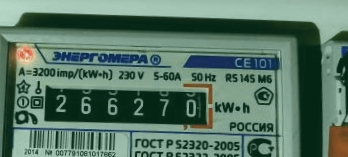0: (184, 97, 198, 117)
2: (53, 93, 69, 113), (131, 96, 146, 116)
6: (79, 94, 93, 115), (106, 96, 120, 116)
7: (157, 97, 170, 116)
screen: (35, 74, 220, 134)
